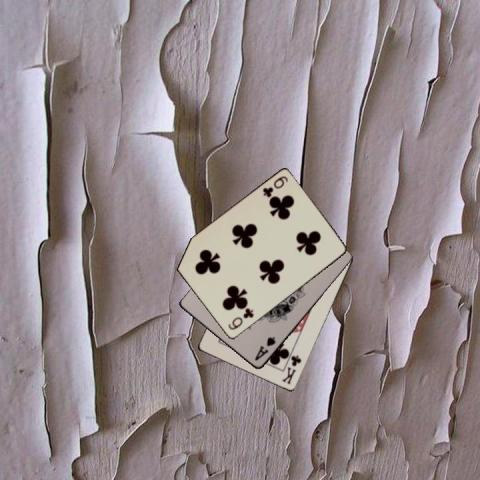6c: (226, 306, 256, 332), (260, 174, 290, 200)
As: (252, 334, 277, 363)
Kc: (279, 353, 303, 386)
